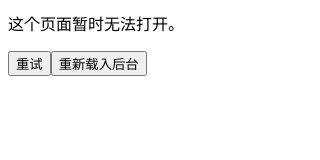
Test case: does not reload if durable recovery fails
Click the button "重新载入后台": (99, 64) top-left (51, 51), bottom-right (147, 76)
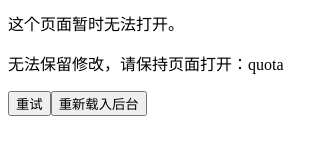
Check: the text "无法保留修改" is shown, box top-left (8, 56), bottom-right (284, 73)
